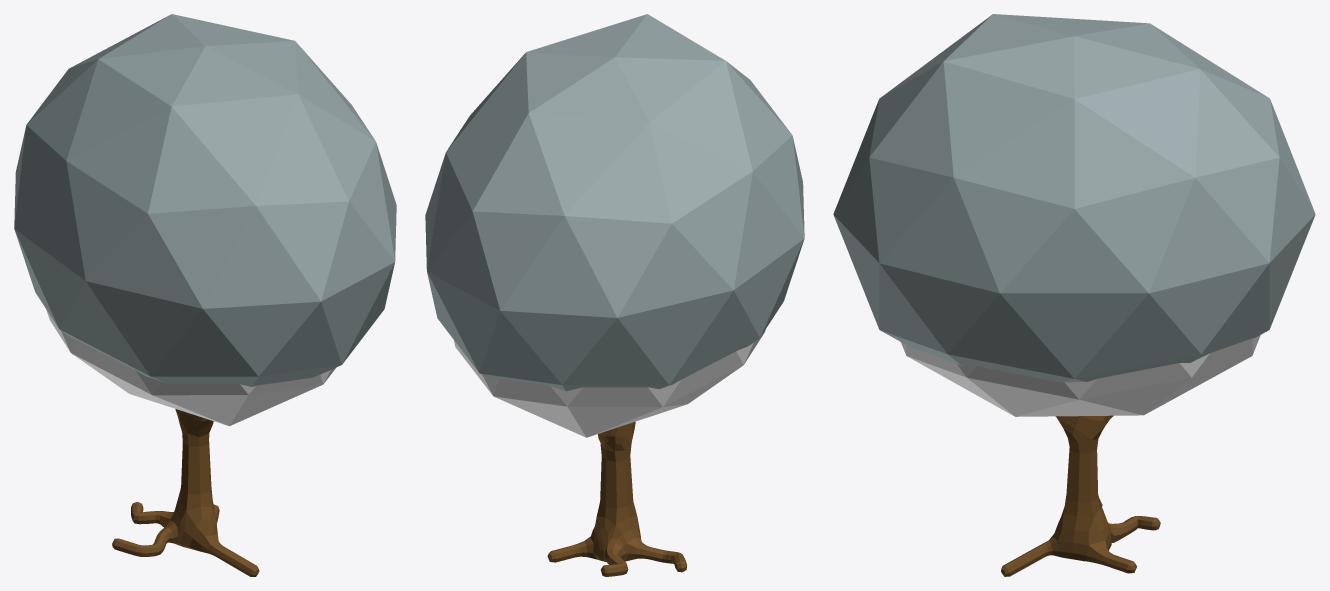
The model's file is tree60.gltf.
3 renders of one model, left to right at view 1: azimuth 30°, elevation 25°; view 2: azimuth 150°, elevation 25°; view 3: azimuth 270°, elevation 25°, orthographic. The views are drawn at different scales.
Parts seen in each view (by area): view 1: Icosphere, Cube, Icosphere.001; view 2: Icosphere, Icosphere.001, Cube; view 3: Icosphere, Icosphere.001, Cube.
Part boxes in pixels (x1,y1,x2,y2): Icosphere: (14, 14, 396, 386); Cube: (112, 409, 259, 576); Icosphere.001: (46, 309, 336, 426); Icosphere: (425, 14, 804, 391); Icosphere.001: (454, 330, 765, 437); Cube: (547, 421, 687, 576); Icosphere: (833, 14, 1315, 382); Icosphere.001: (901, 335, 1260, 416); Cube: (1001, 415, 1160, 576).
Bounding box in the file's own units: 3.47 × 5.45 × 4.48.
